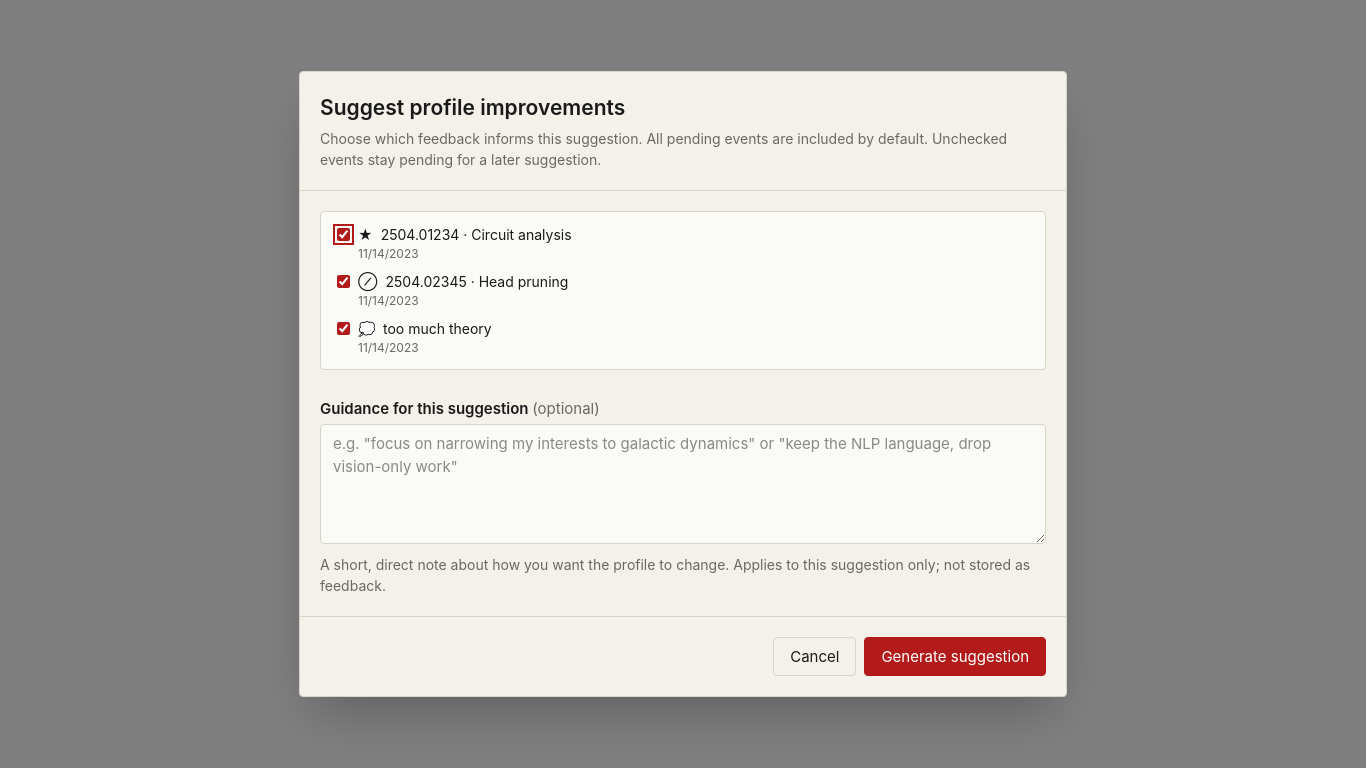
Test: SuggestDialog — loading and result states › transitions to loading state when Generate is clicked and the API is pending
This screenshot has width=1366, height=768.
Click the button "Generate suggestion" at (955, 656), box [864, 637, 1046, 676]
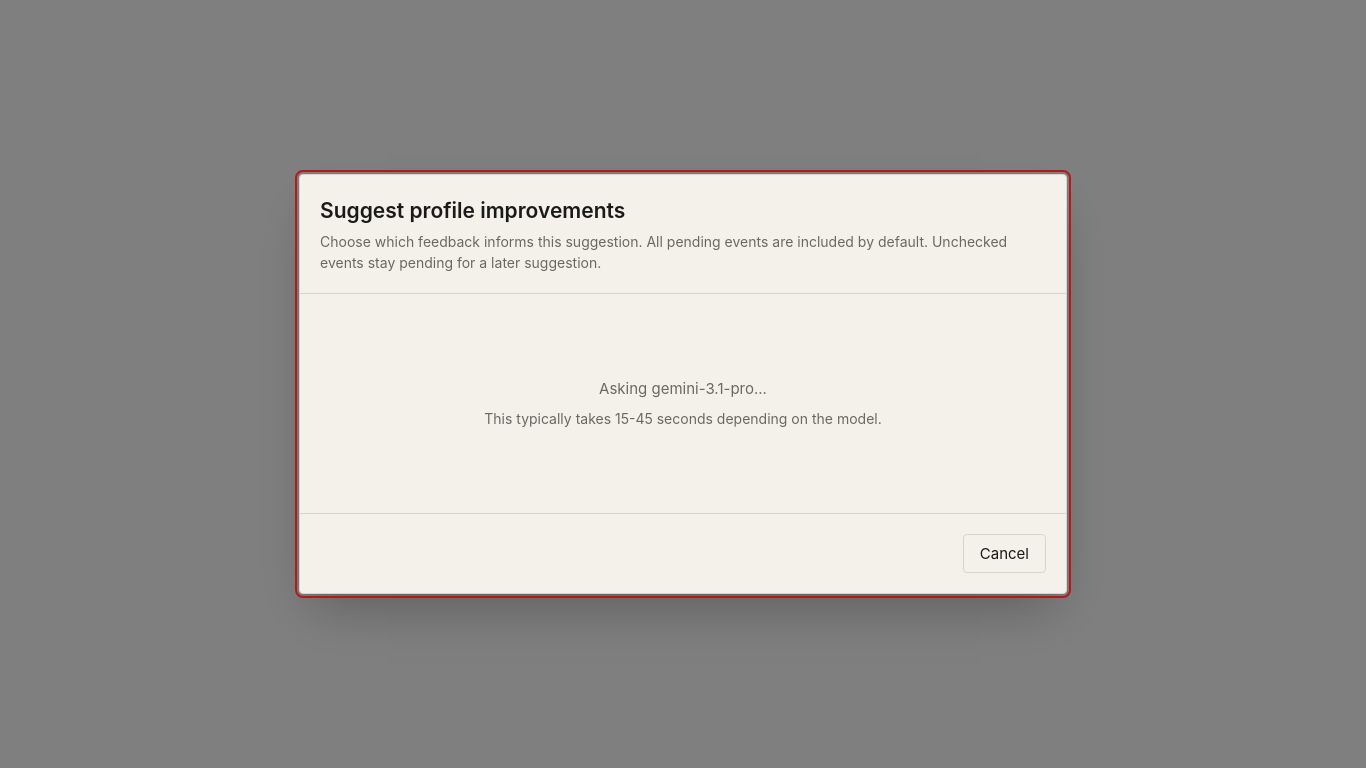
Now the text "Asking gemini-3.1-pro..." is shown, box [599, 378, 767, 398]
